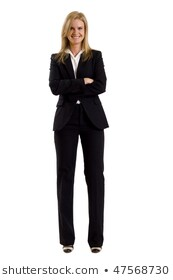F_dress pants: (51, 122, 109, 248)
